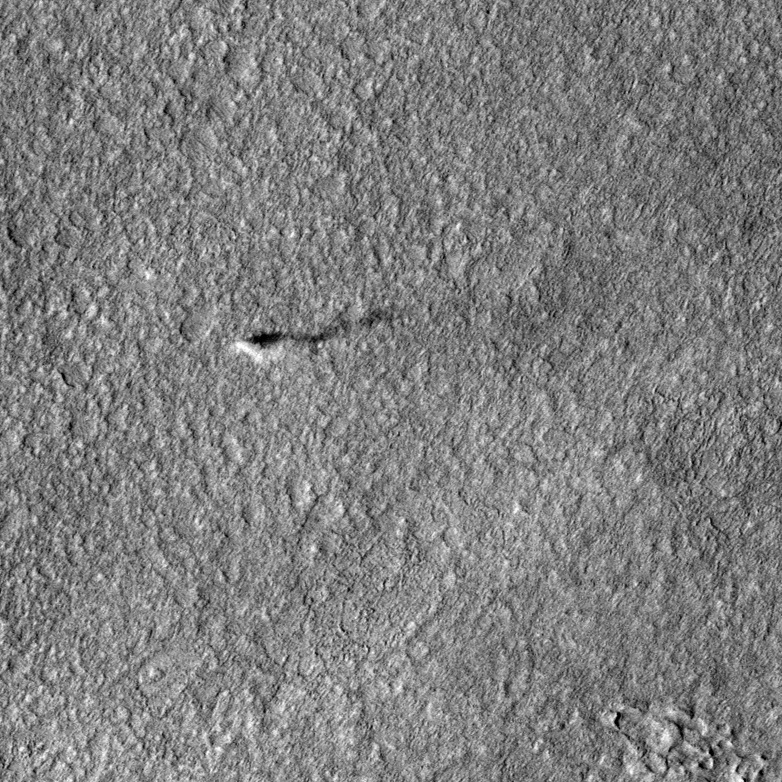dust_devil: (233, 305, 414, 366)
